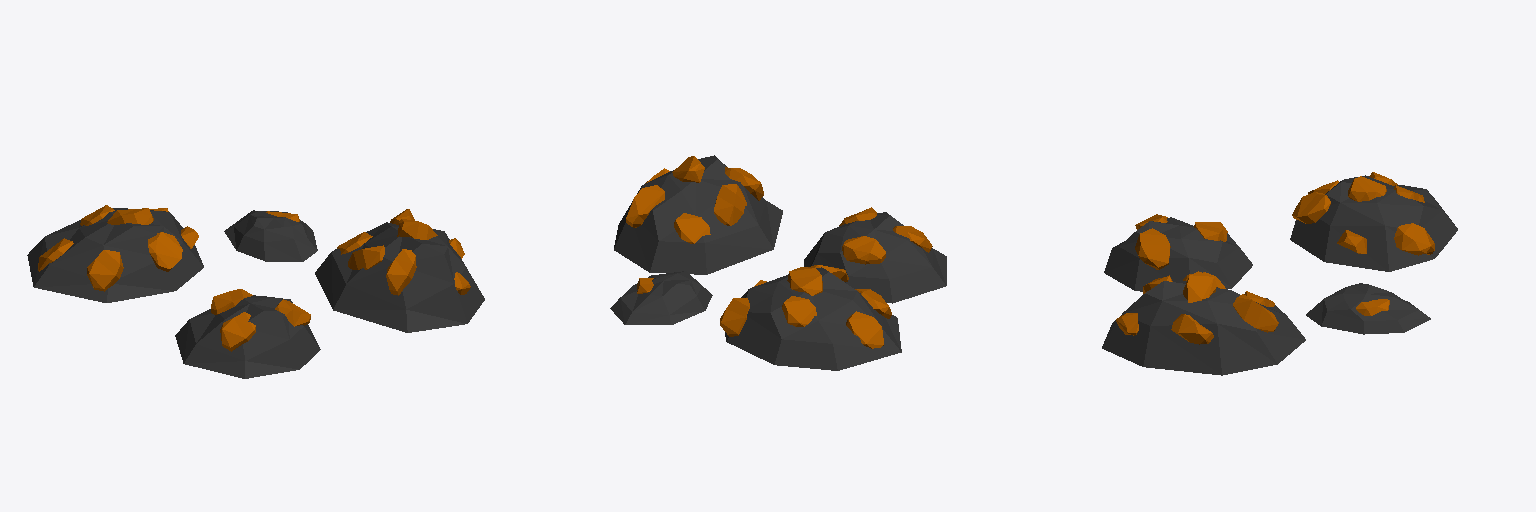
The model's file is gold.obj.
The picture shows the model from 3 angles: view 1: azimuth 30°, elevation 25°; view 2: azimuth 150°, elevation 25°; view 3: azimuth 270°, elevation 25°; orthographic projection.
Parts seen in each view (by area): view 1: Ore_Cube.012; view 2: Ore_Cube.012; view 3: Ore_Cube.012.
Part boxes in pixels (x1,y1,x2,y2): Ore_Cube.012: (27, 205, 484, 378); Ore_Cube.012: (610, 155, 946, 370); Ore_Cube.012: (1102, 172, 1457, 375).
Bounding box in the file's own units: 1.17 × 0.2422 × 1.02.